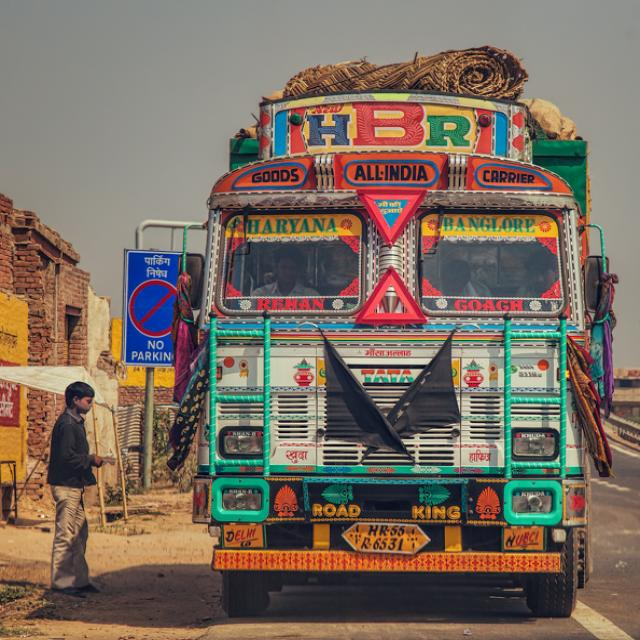normal_truck: (192, 90, 591, 618)
overloaded_truck: (263, 45, 529, 102), (522, 99, 577, 141)
